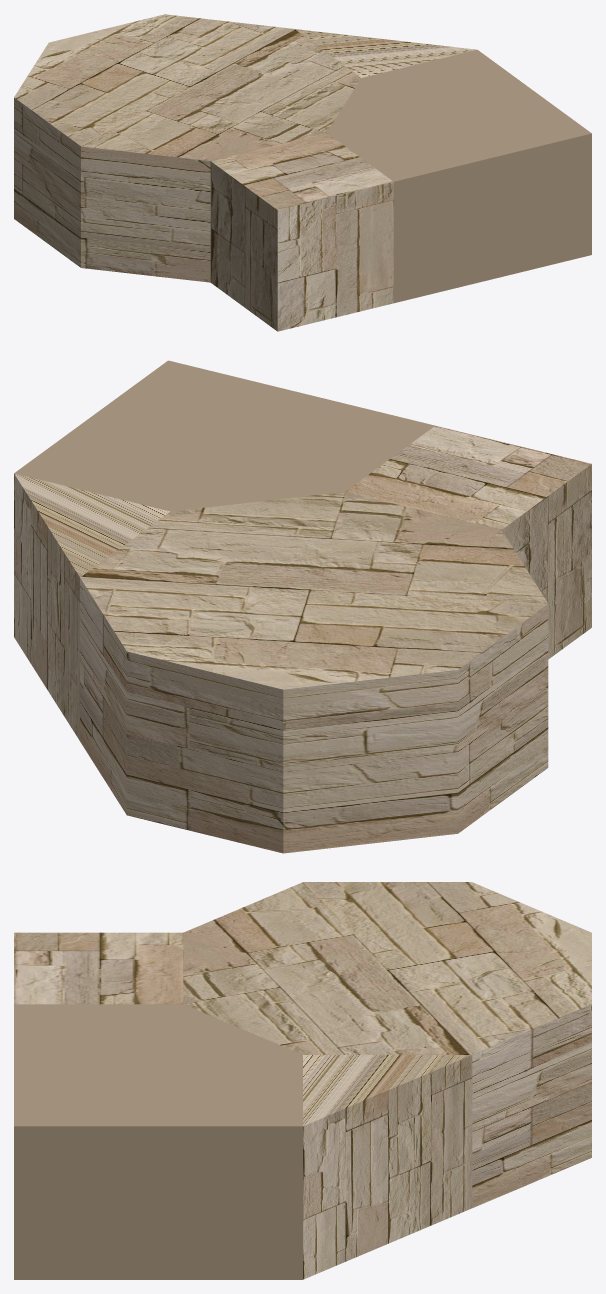
Rendered from floor1.fbx.
3 views of the same model, one above another, from view 1: azimuth 30°, elevation 25°; view 2: azimuth 150°, elevation 25°; view 3: azimuth 270°, elevation 25° (orthographic). The views are drawn at different scales.
Visible parts, largest first — view 1: room5, room6, room3, room7; view 2: room5, room6, room3, room7; view 3: room5, room6, room7, room3.
Part boxes in pixels (left/top/right/bottom): room5: left=14, top=14, right=361, bottom=282; room6: left=327, top=49, right=591, bottom=303; room3: left=210, top=133, right=393, bottom=331; room7: left=295, top=29, right=476, bottom=77; room5: left=80, top=492, right=548, bottom=853; room6: left=14, top=360, right=434, bottom=511; room3: left=345, top=425, right=591, bottom=659; room7: left=14, top=473, right=170, bottom=740; room5: left=183, top=882, right=591, bottom=1207; room6: left=14, top=1004, right=302, bottom=1279; room7: left=303, top=1055, right=472, bottom=1279; room3: left=14, top=932, right=183, bottom=1004.
Bounding box in the file's own units: 2048 × 600 × 2048.
Materials: 6 (3 with a texture image).
